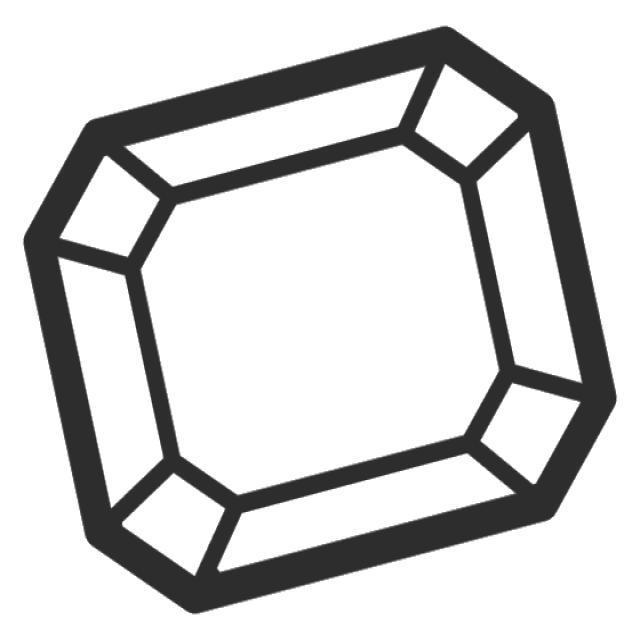emerald: (16, 22, 622, 624)
